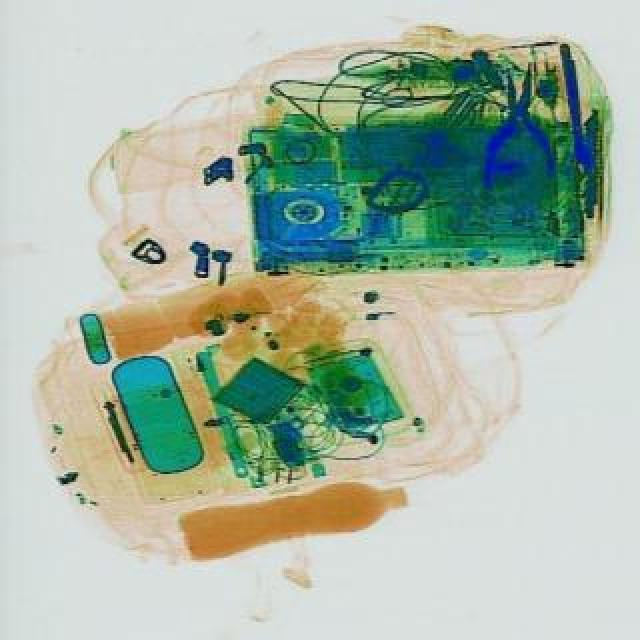wrench: (476, 60, 552, 188)
